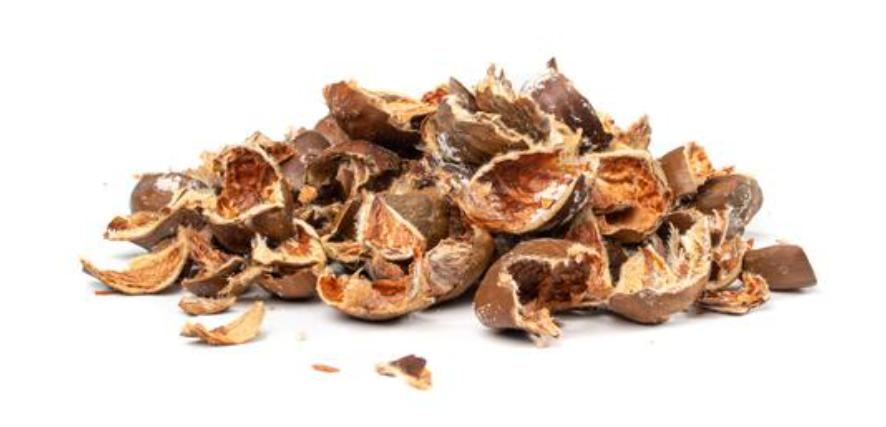organic: (314, 201, 493, 321), (607, 215, 719, 324), (421, 72, 548, 167), (658, 144, 762, 247), (202, 143, 293, 250), (320, 79, 431, 156), (581, 148, 670, 242), (102, 189, 209, 250), (181, 300, 265, 346), (558, 201, 608, 273), (319, 196, 362, 251), (239, 129, 300, 165), (609, 113, 653, 151), (178, 291, 242, 316), (681, 140, 717, 183), (444, 196, 474, 241), (315, 270, 351, 306), (312, 115, 350, 147), (445, 76, 474, 106), (197, 147, 224, 174), (178, 320, 207, 339)
